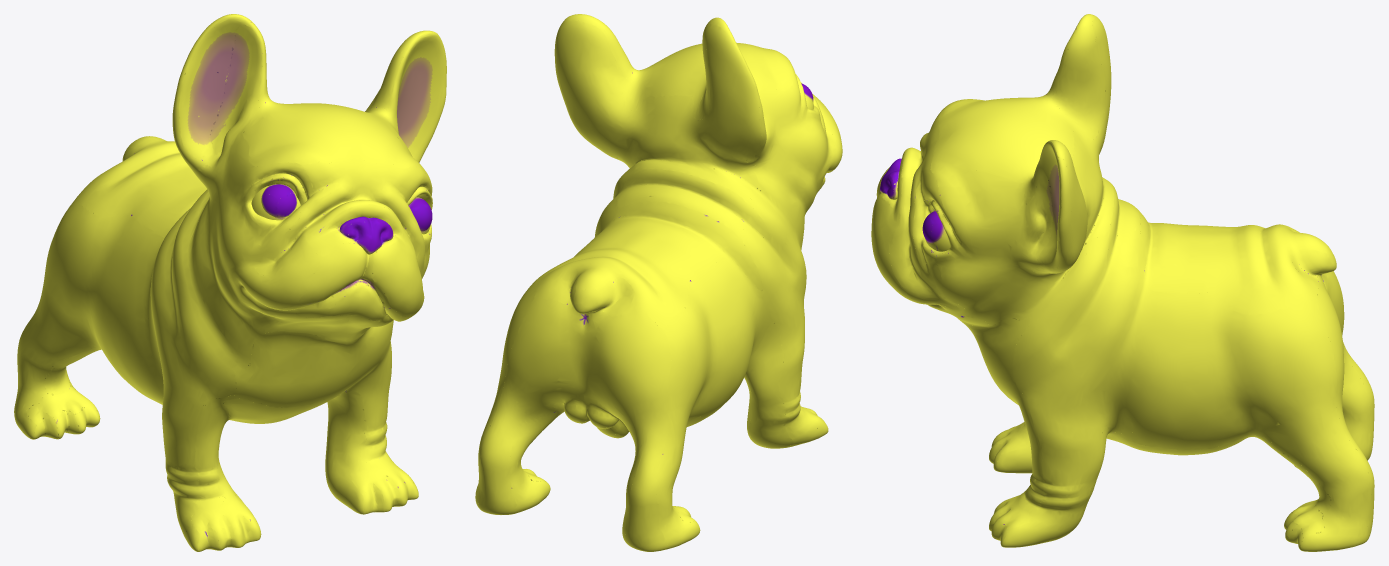
Rendered from yorbie-small.glb.
3 views of the same model, side by side, from view 1: azimuth 30°, elevation 25°; view 2: azimuth 150°, elevation 25°; view 3: azimuth 270°, elevation 25° (orthographic). The views are drawn at different scales.
Visible parts, largest first — view 1: QFrench Solid; view 2: QFrench Solid; view 3: QFrench Solid.
Boxes of the visible parts, x1,y1,x2,y2 form: QFrench Solid: [14, 14, 446, 551]; QFrench Solid: [475, 14, 842, 551]; QFrench Solid: [871, 14, 1374, 551].
Bounding box in the file's own units: 74.49 × 119 × 116.
Materials: 1 (1 with a texture image).
